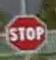stop: (5, 14, 46, 51)
